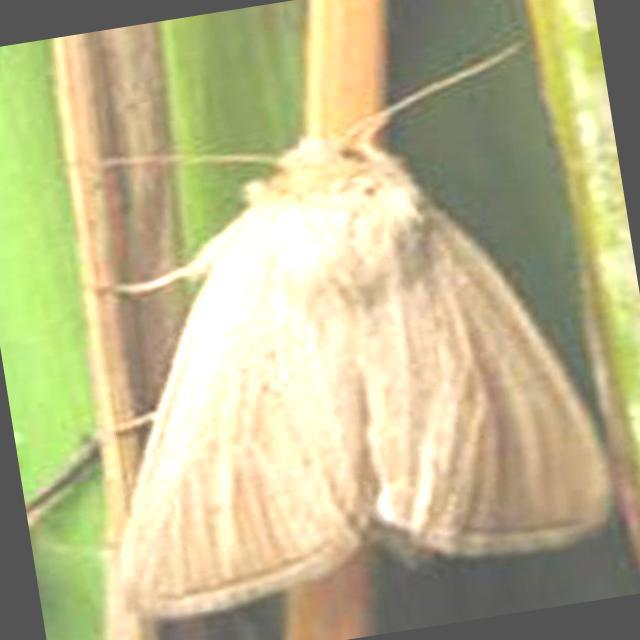stem borer: (94, 42, 609, 619)
